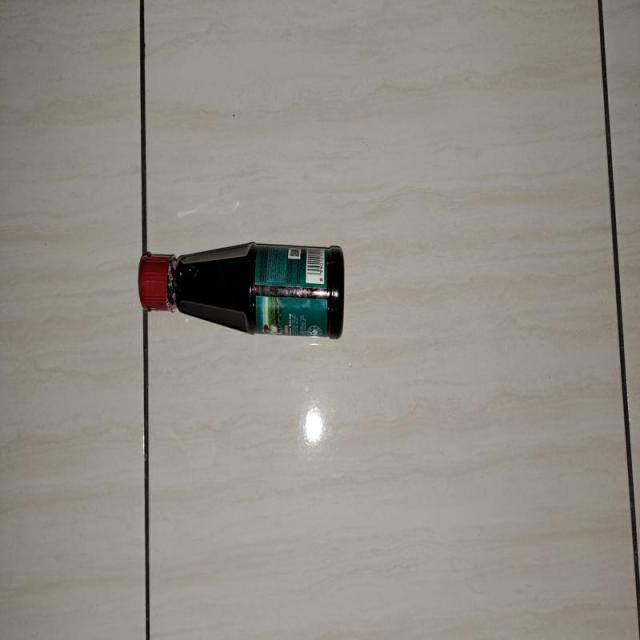Anorganik: (132, 228, 362, 347)
